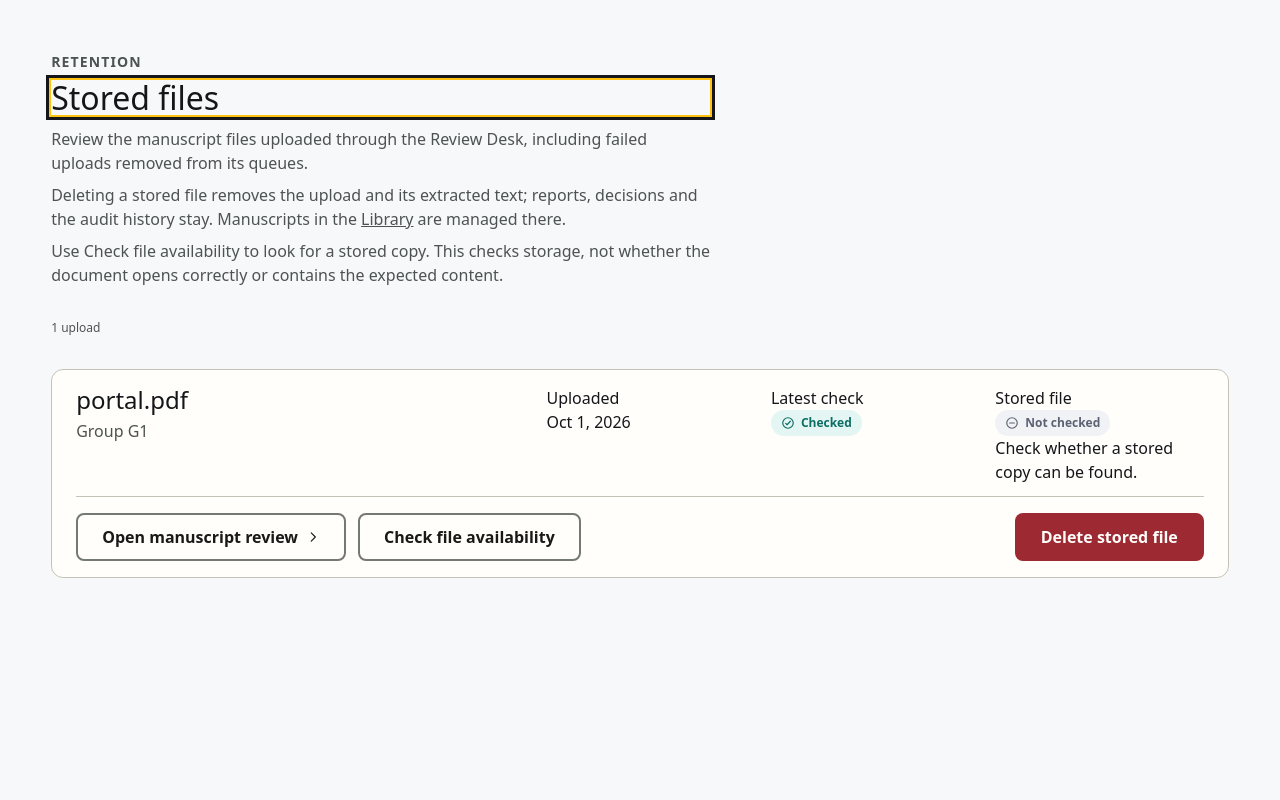
Scenario: Stored files (V-078) › shows missing independently of the saved report
The width and height of the screenshot is (1280, 800).
Click the button with aria-label "Check file availability: portal.pdf" at x=469, y=537, box [358,513,581,561]
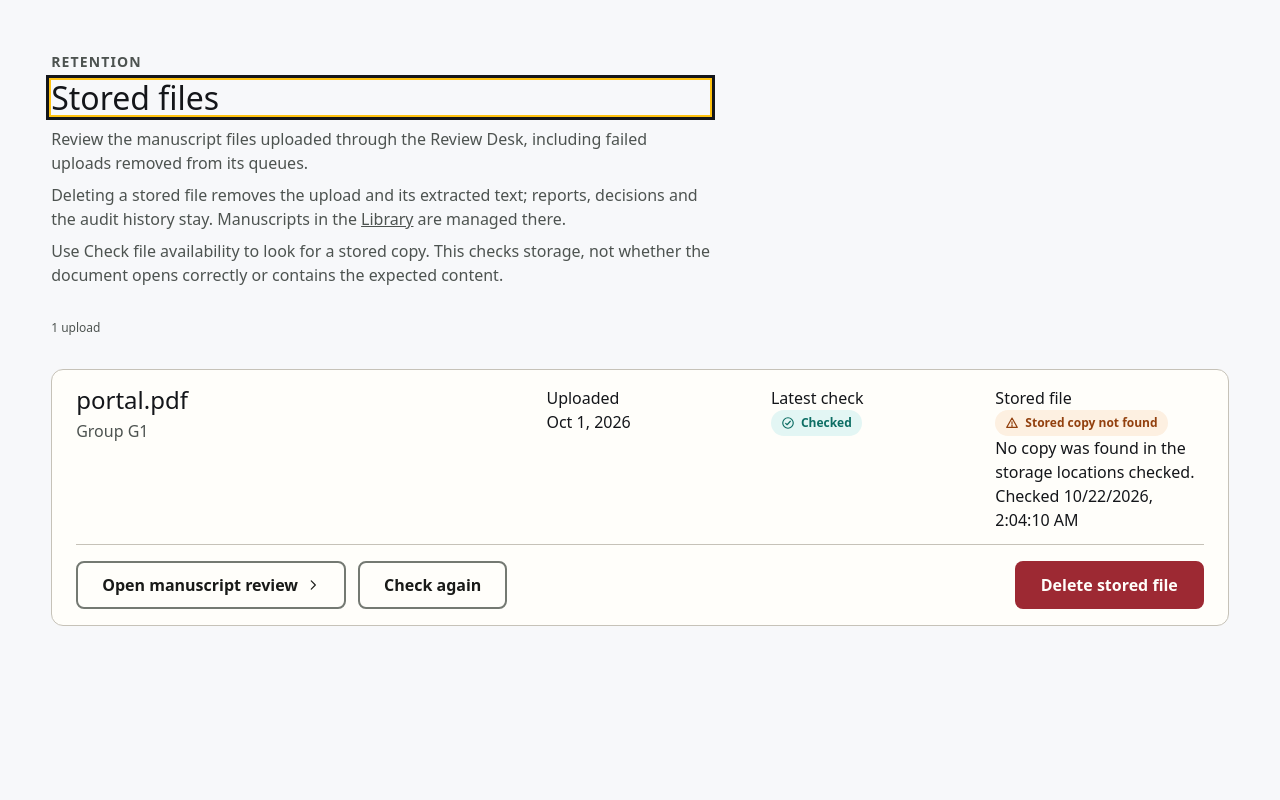
Expected: the text "Stored copy not found" is shown, [995,410,1168,436]
Expected: the text "No copy was found in the storage locations checked." is shown, [995,436,1204,484]
Expected: the text "Checked 10/22/2026, 2:04:10 AM" is shown, [995,485,1153,531]
